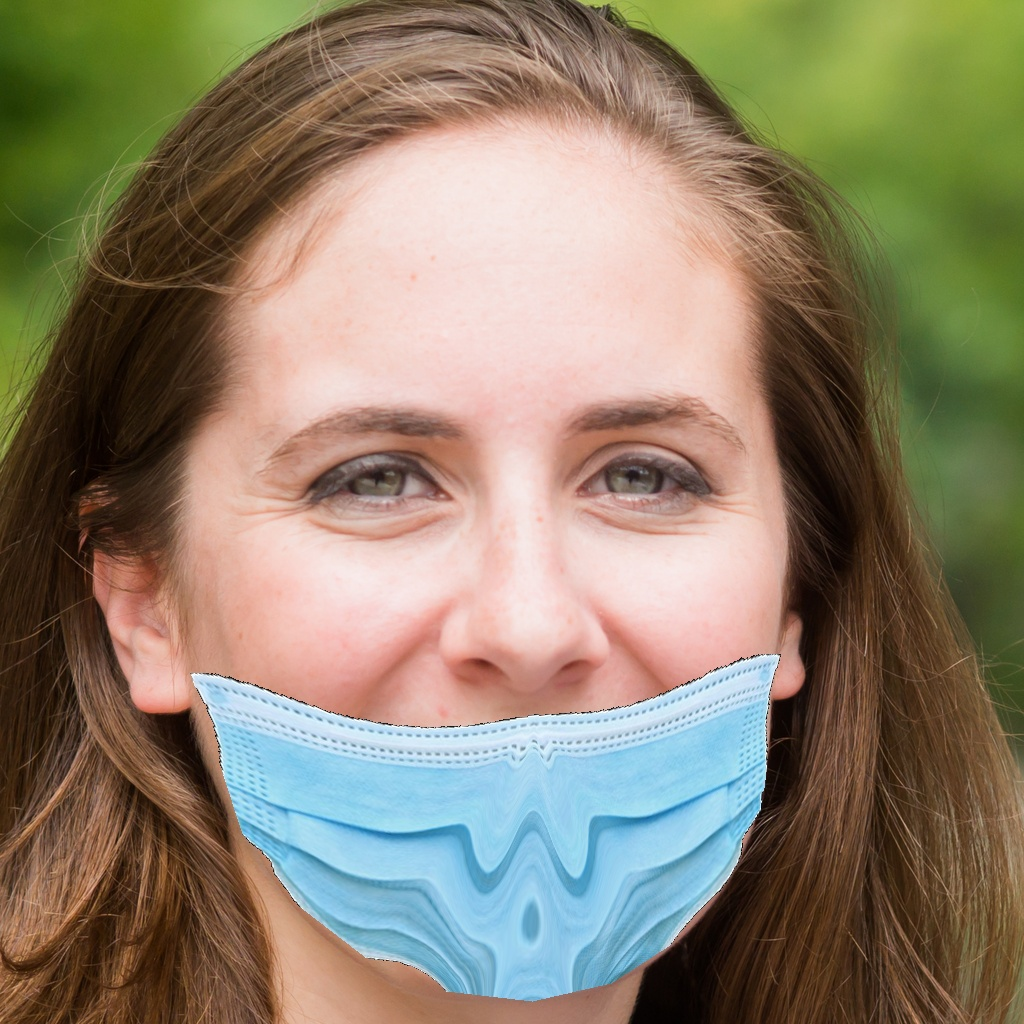mascarilla_mal_puesta: (187, 353, 817, 978)
